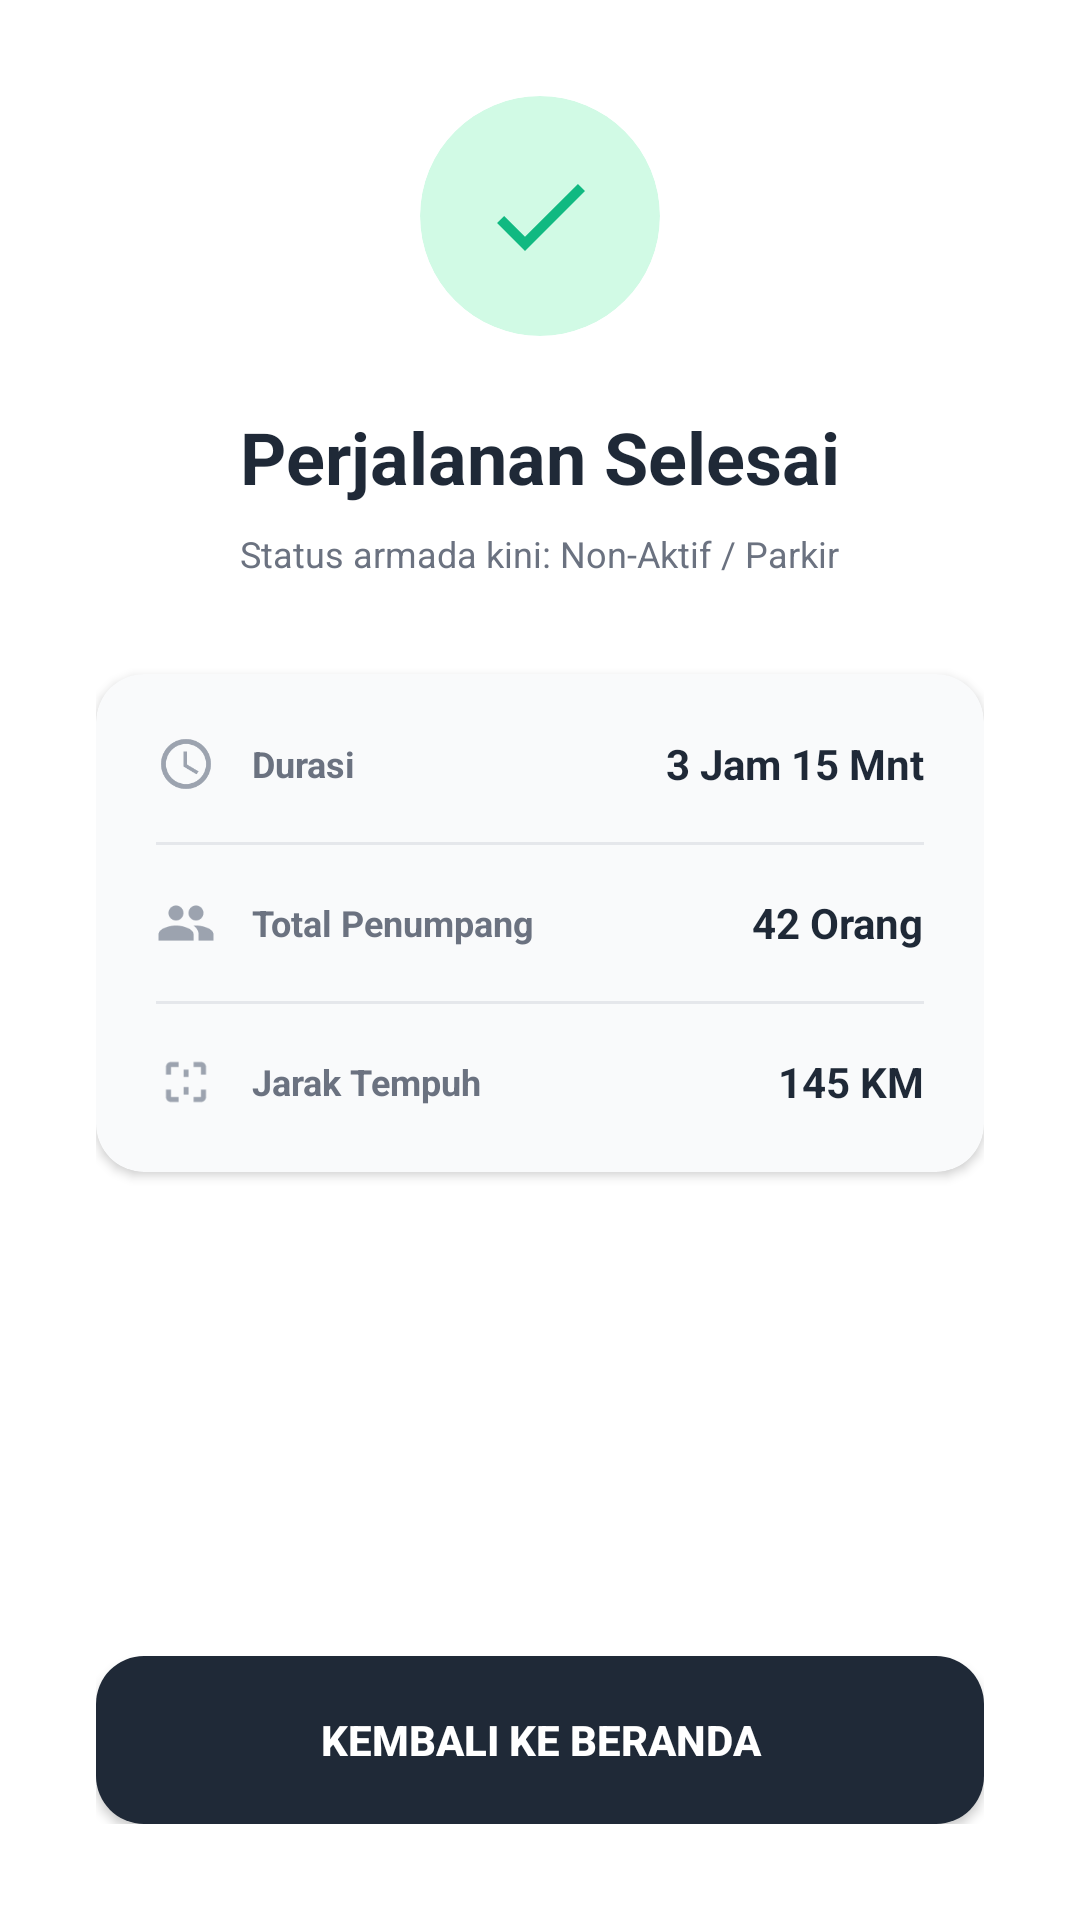

Icon bounding boxes for this 1080w x 1920h phone screenshot, format (x1, y1, x2, y2):
Clock Icon: (161, 739, 211, 789)
Road Icon: (166, 1062, 206, 1102)
Success Icon: (497, 184, 585, 251)
Users Icon: (158, 905, 214, 941)
